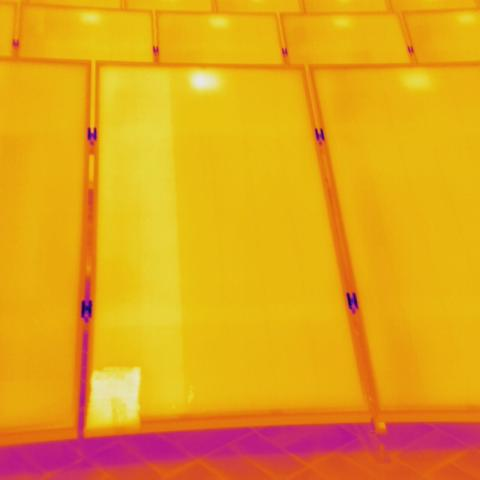fault: (84, 363, 147, 438), (188, 69, 218, 91)
